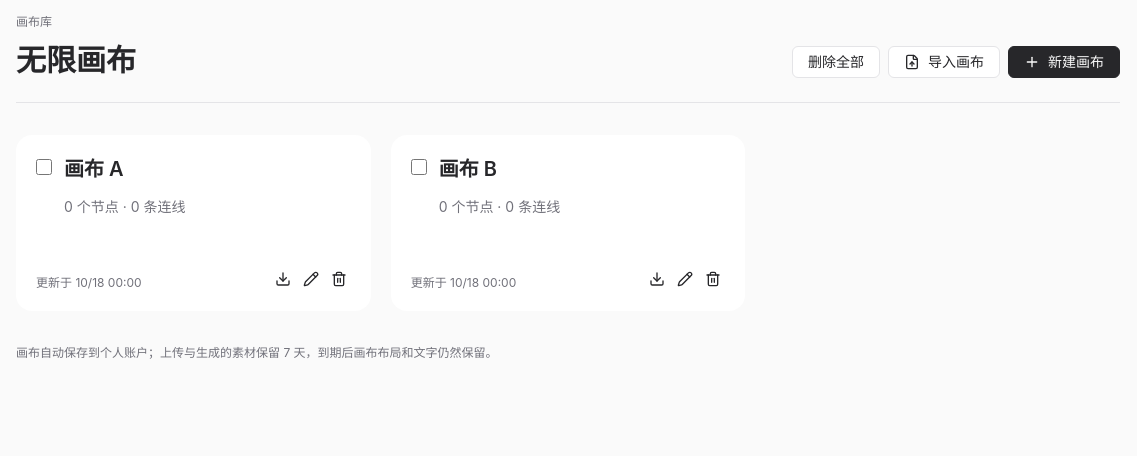
画布库云端操作失败恢复 › 批删后的列表刷新失败也不重新展示已确认删除的卡片
The image size is (1137, 456).
Click the 1st checkbox. click: x=44, y=167
box: [36, 159, 52, 175]
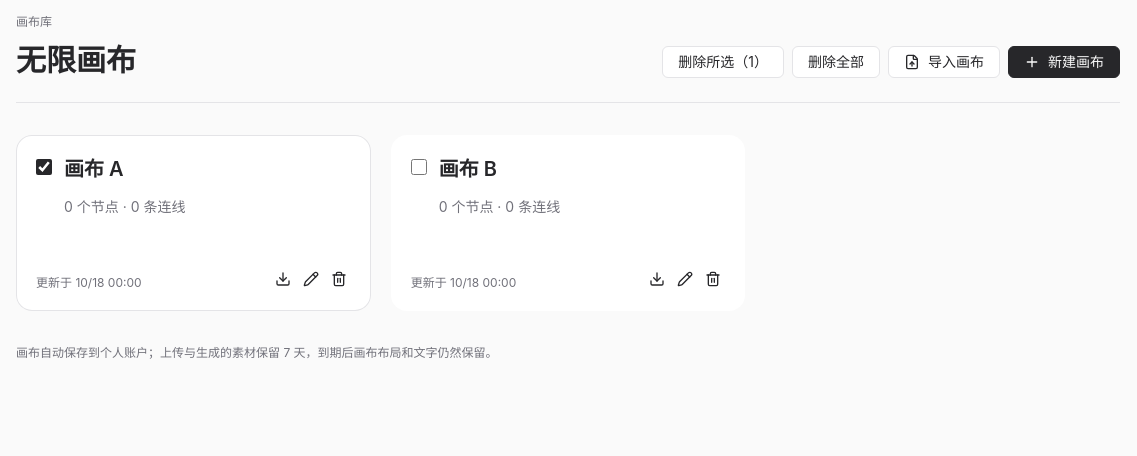
Click the 2nd checkbox. click: x=419, y=167
box: [411, 159, 427, 175]
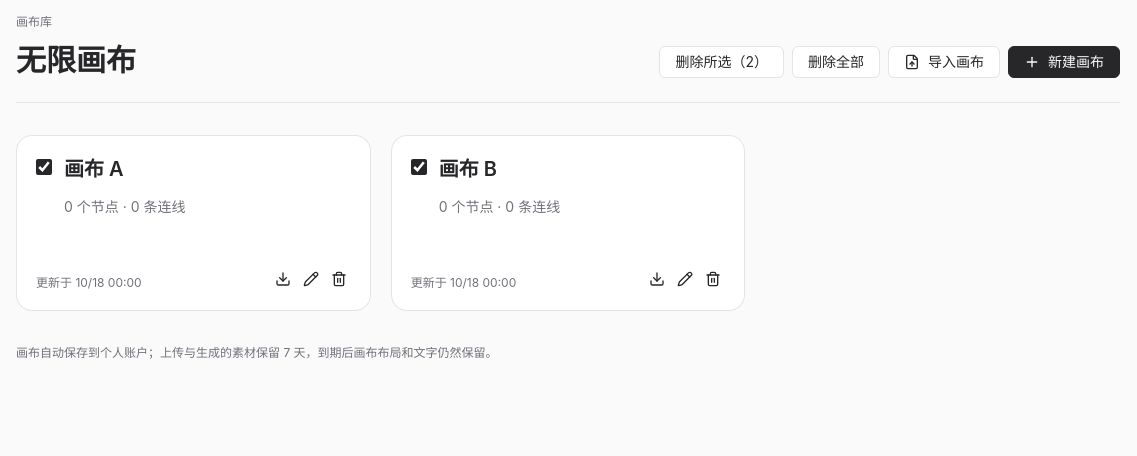
Click the button "删除所选（2）". click: x=722, y=62
box: [660, 46, 784, 78]
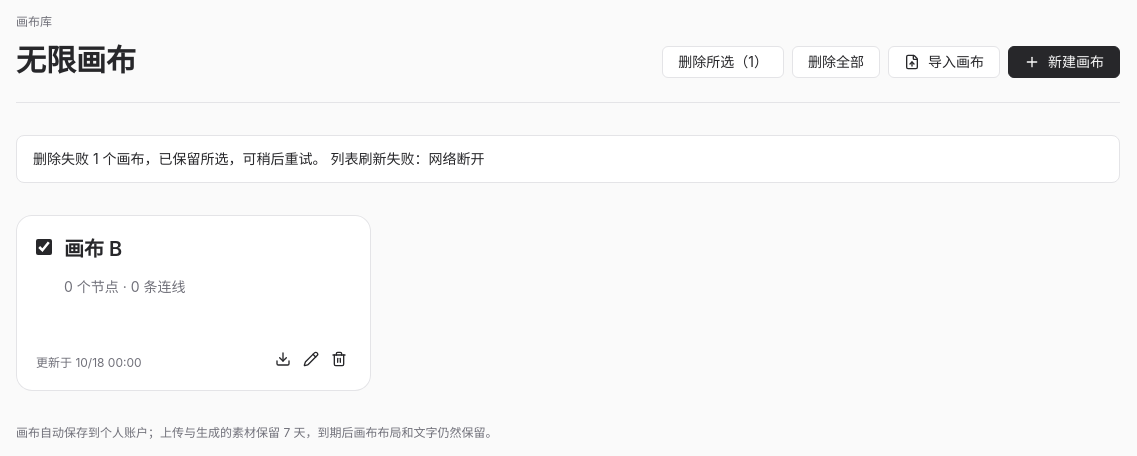
Expected: the message "删除失败 1 个画布，已保留所选，可稍后重试。 列表刷新失败：网络断开" is shown, [16, 135, 1120, 183]
